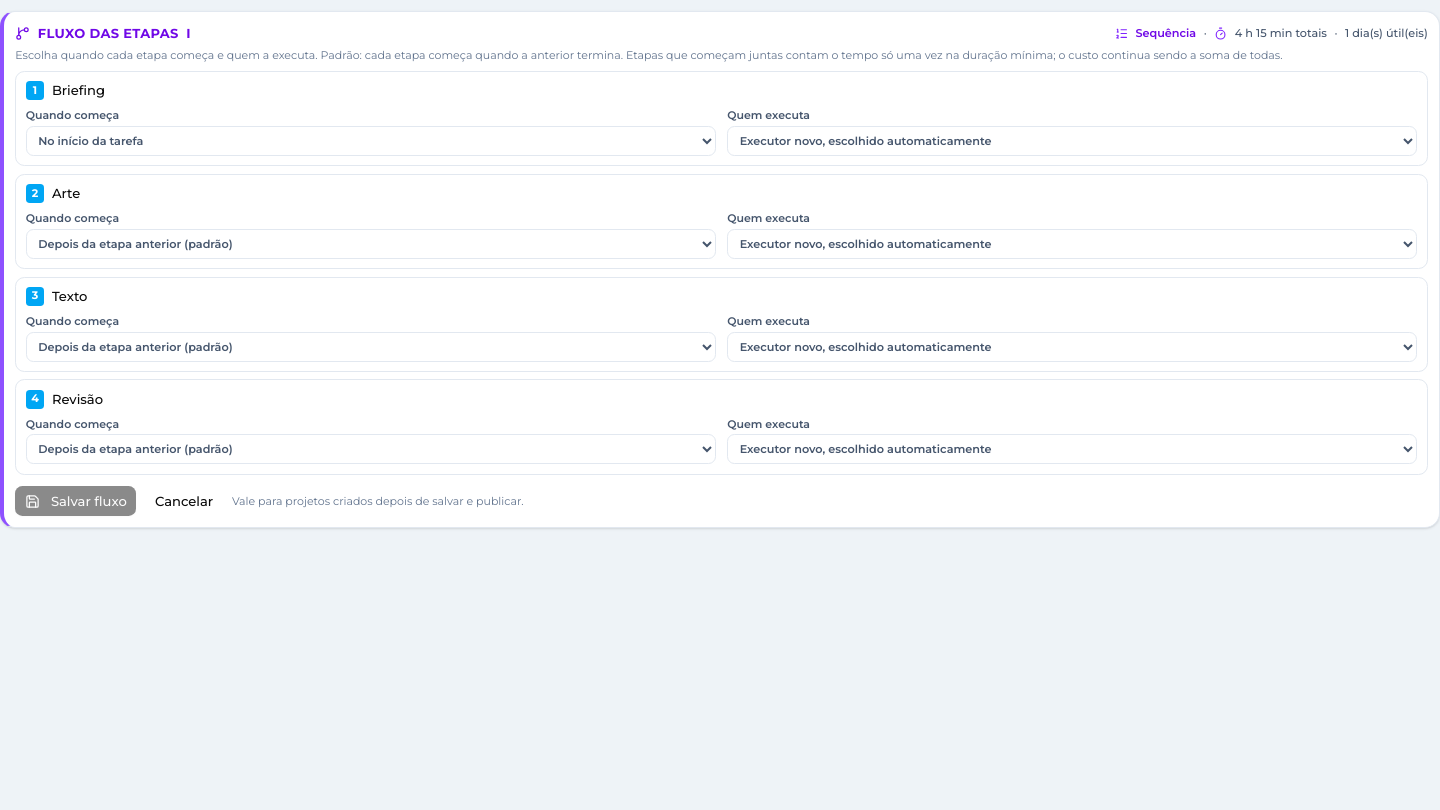
Test: Fluxo das etapas (A8) · editor › 2 e 3 em paralelo com a 1; a 4 depois de todas — resumo, duração mínima e payload salvo
Later steps or results of the test are not shown.
Select "Junto com o início da tarefa (em paralelo)" in the dropdown named "Quando a etapa 1 começa" at (371,141), box [26,126,716,156]
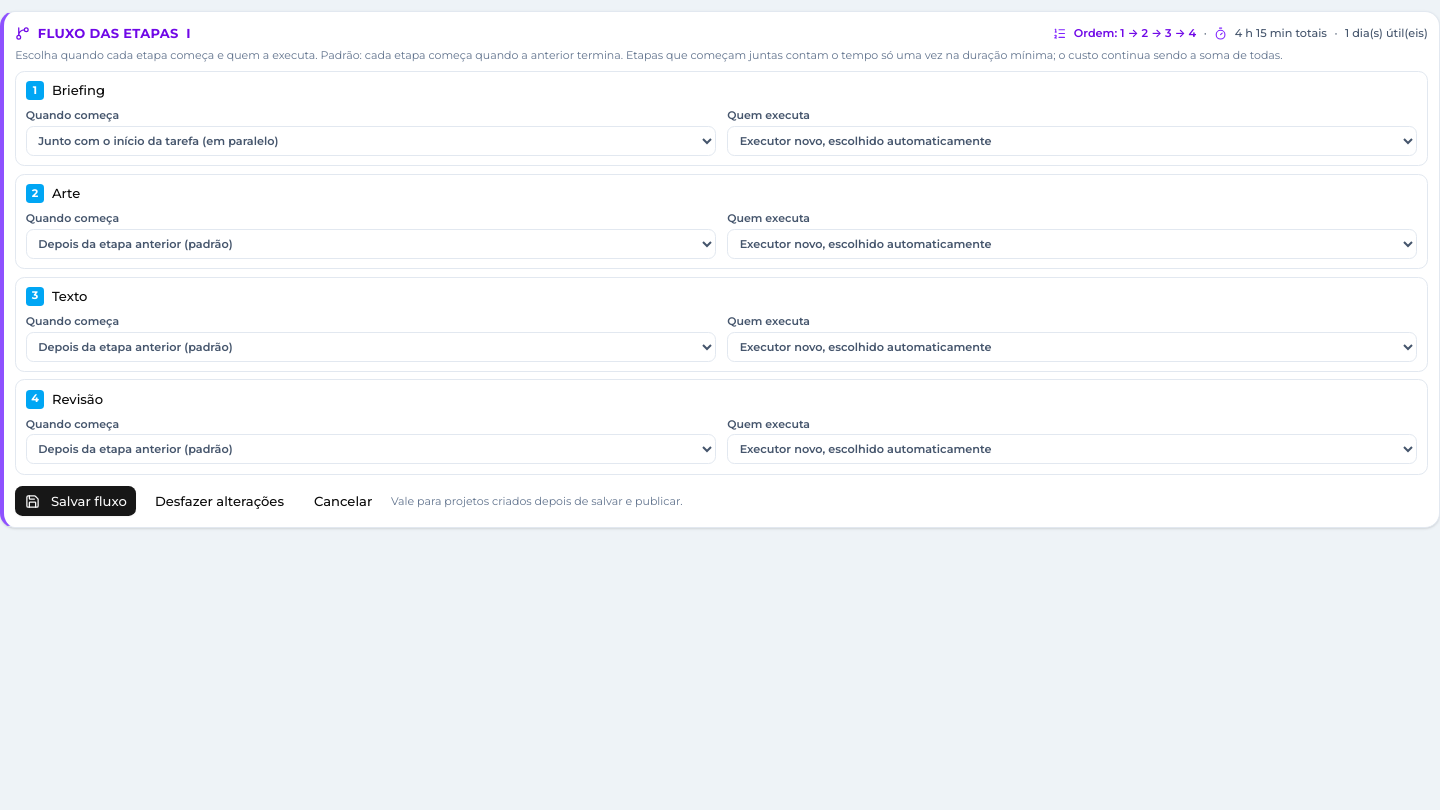
Select "Junto com o início da tarefa (em paralelo)" in the dropdown named "Quando a etapa 2 começa" at (371,244), box [26,229,716,259]
Select "Junto com o início da tarefa (em paralelo)" in the dropdown named "Quando a etapa 3 começa" at (371,346), box [26,332,716,362]
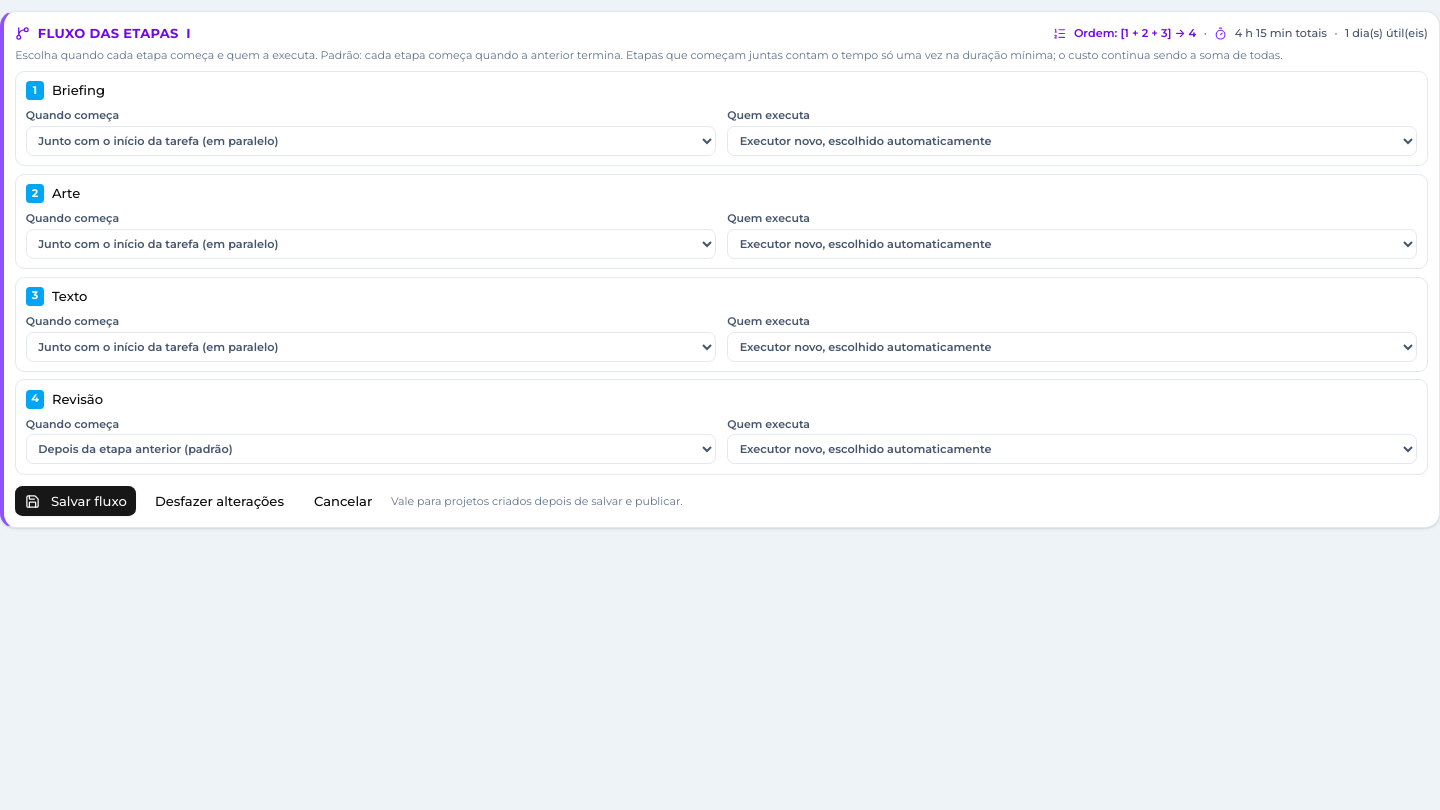
Select "Depois de etapas específicas…" in the dropdown named "Quando a etapa 4 começa" at (371,449), box [26,434,716,464]
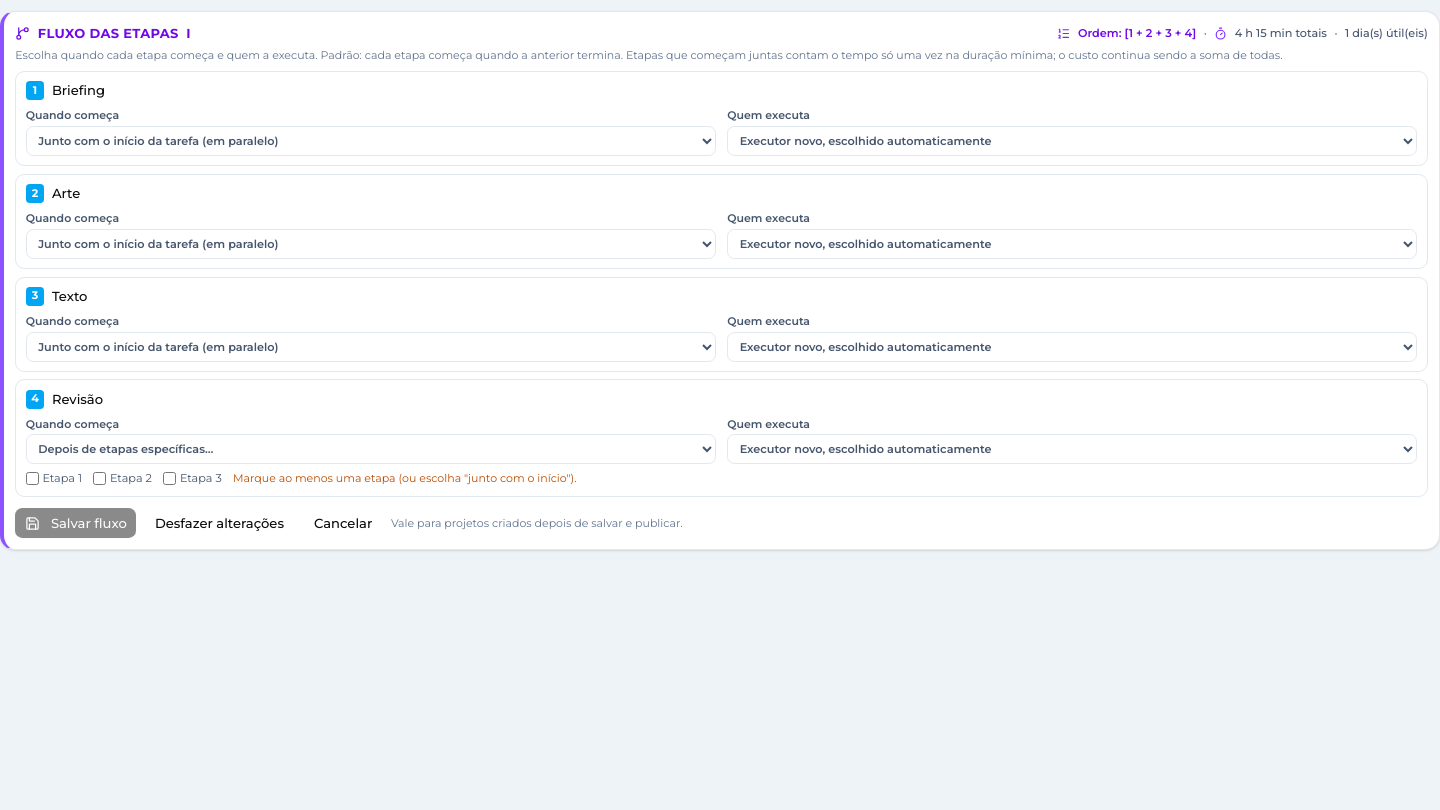
Click the checkbox labelled "Etapa 1" at (32,478), box [26,472,39,485]
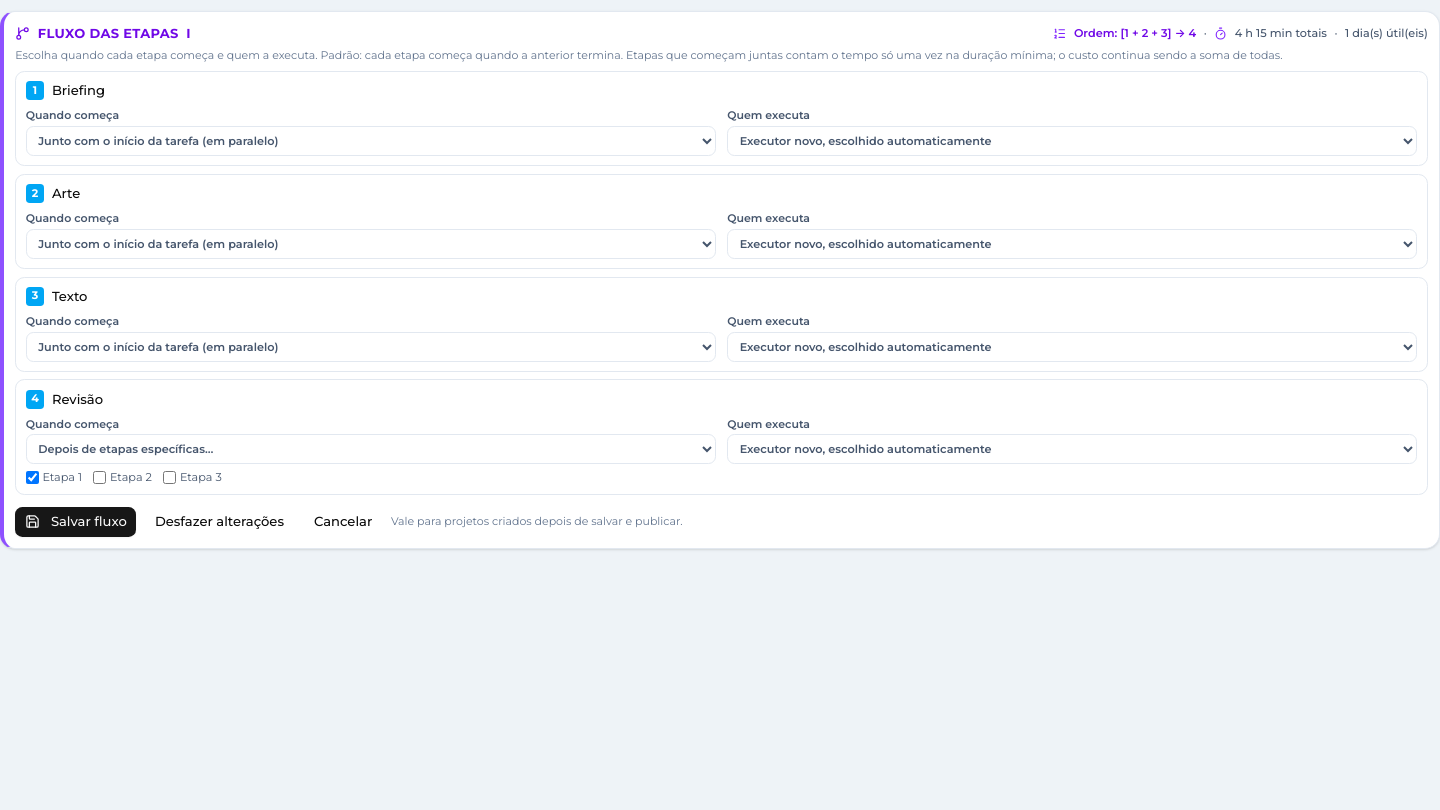
Click the checkbox labelled "Etapa 2" at (100,478), box [93,471,106,484]
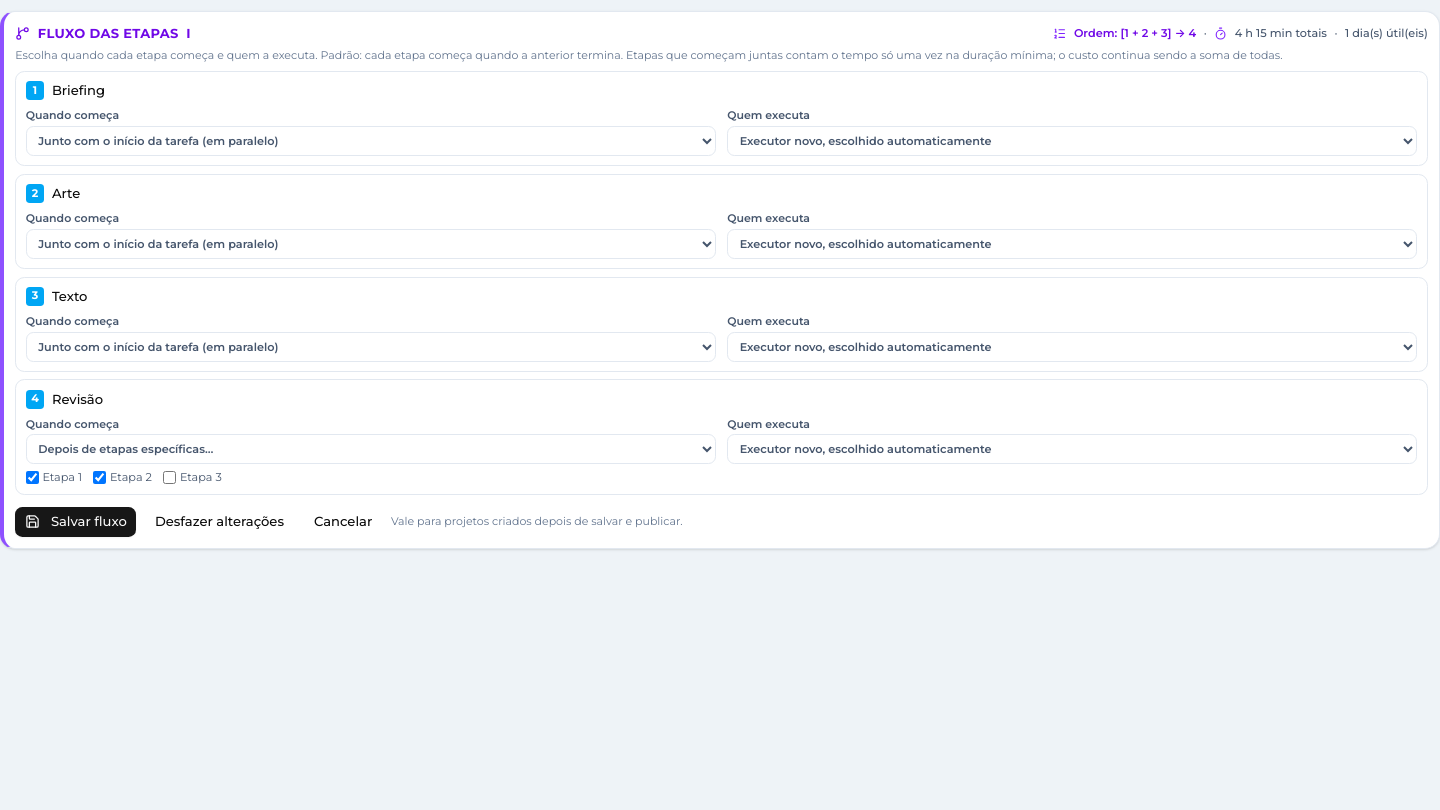
Click the checkbox labelled "Etapa 3" at (170,478), box [163,471,176,484]
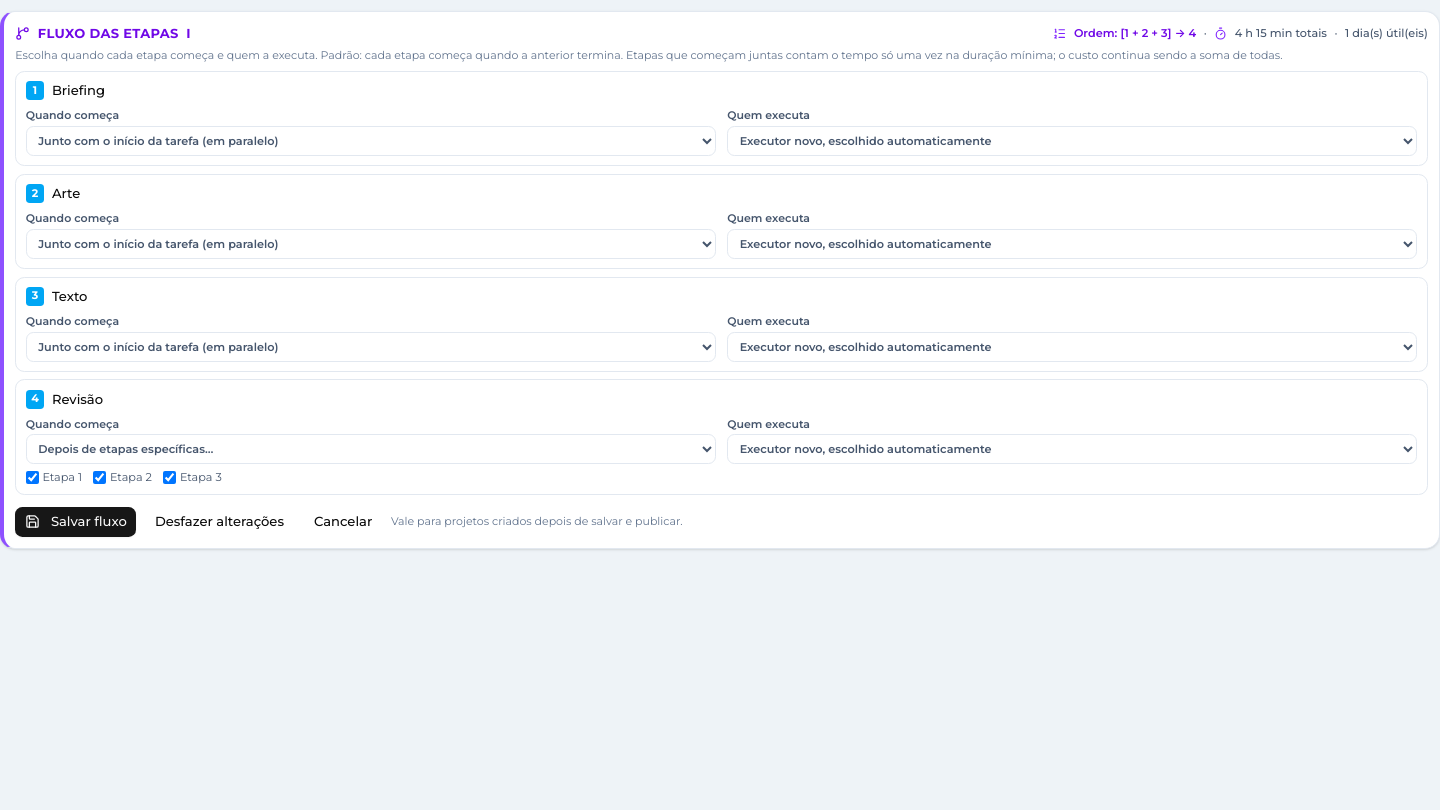
Check: the element with test id "flow-summary" reads "Ordem: [1 + 2 + 3] → 4 · 4 h 15 min totais · 1 dia(s) útil(eis)", box [1053,26,1428,41]
Check: the element with test id "flow-summary" shows "[1 + 2 + 3] → 4", box [1074,26,1196,40]
